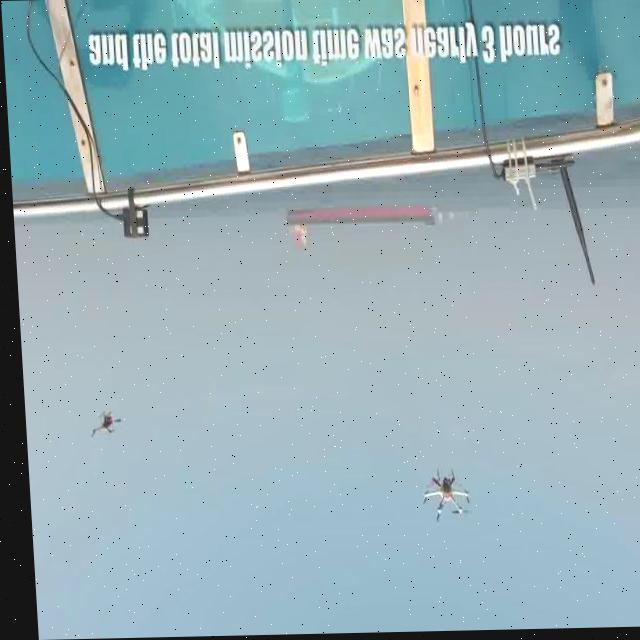drone: (83, 407, 117, 442)
